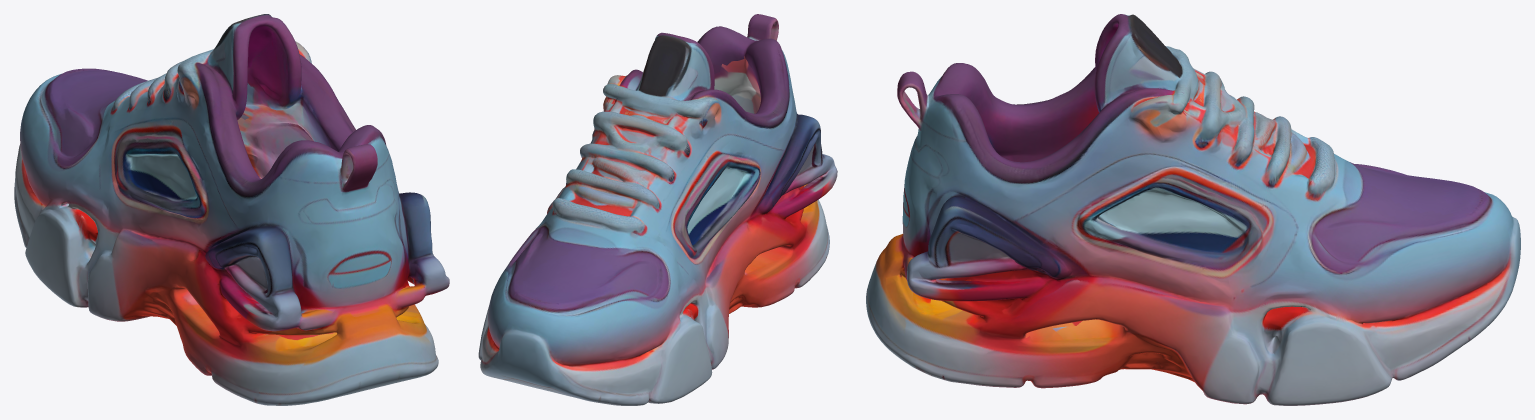
Rendered from Shoe.glb.
3 renders of one model, left to right at view 1: azimuth 30°, elevation 25°; view 2: azimuth 150°, elevation 25°; view 3: azimuth 270°, elevation 25°, orthographic. The views are drawn at different scales.
Visible parts, largest first — view 1: node0; view 2: node0; view 3: node0.
Boxes of the visible parts, box(x1,y1,x2,y2) form: node0: box(14, 14, 449, 405); node0: box(478, 14, 837, 405); node0: box(866, 14, 1520, 405).
Bounding box in the file's own units: 0.4035 × 0.5286 × 0.9503.
Materials: 1 (1 with a texture image).
